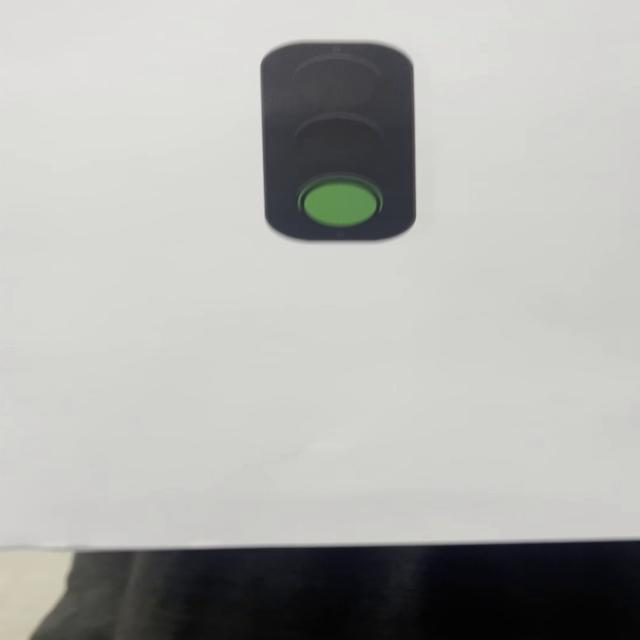green: (259, 42, 422, 244)
